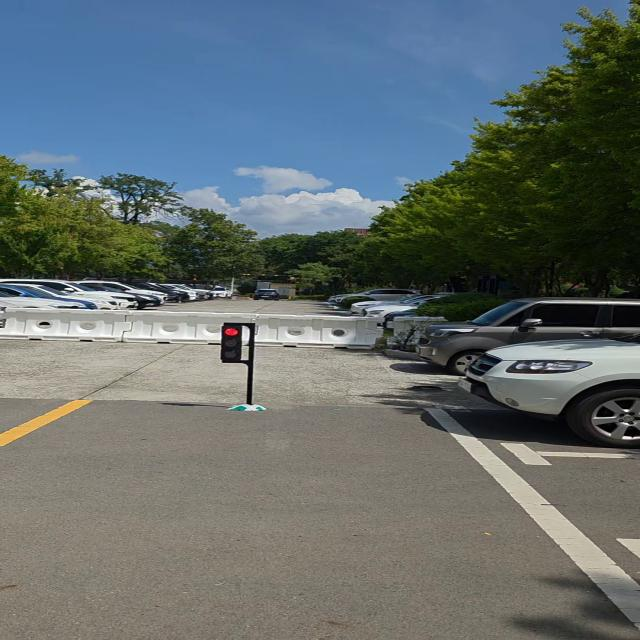red: (218, 323, 249, 362)
